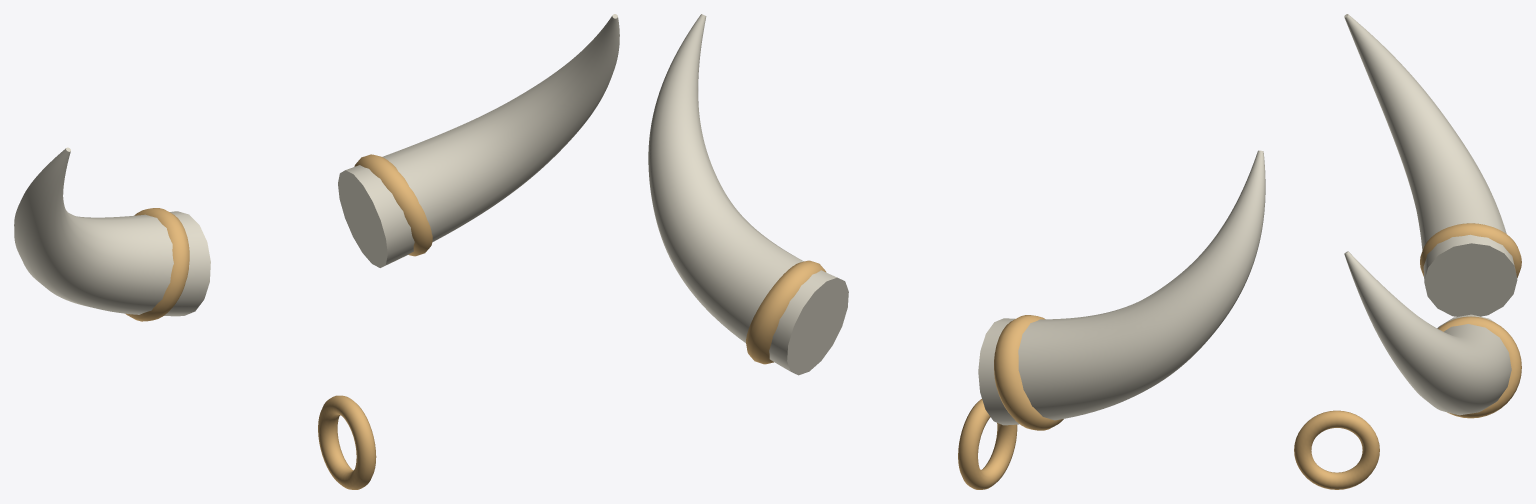
The model's file is alistar_horns.glb.
3 views of the same model, side by side, from view 1: azimuth 30°, elevation 25°; view 2: azimuth 150°, elevation 25°; view 3: azimuth 270°, elevation 25° (orthographic). The views are drawn at different scales.
Parts seen in each view (by area): view 1: alistar_horns; view 2: alistar_horns; view 3: alistar_horns.
Boxes of the visible parts, left/top/right/bottom form: alistar_horns: left=14, top=14, right=619, bottom=489; alistar_horns: left=648, top=14, right=1265, bottom=489; alistar_horns: left=1294, top=14, right=1521, bottom=489.
Size of the model in its own units: 0.9643 by 0.6311 by 0.366.
